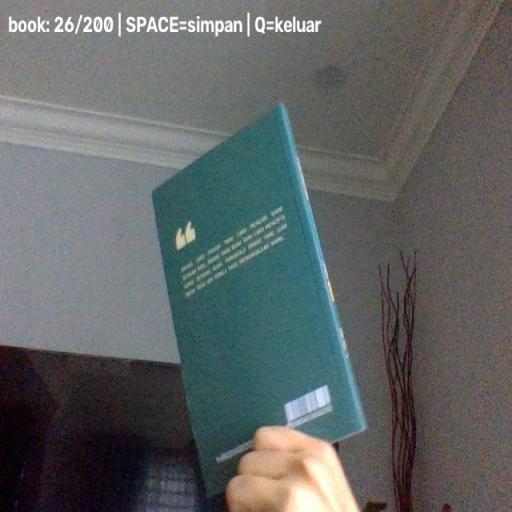Book: (152, 104, 366, 499)
